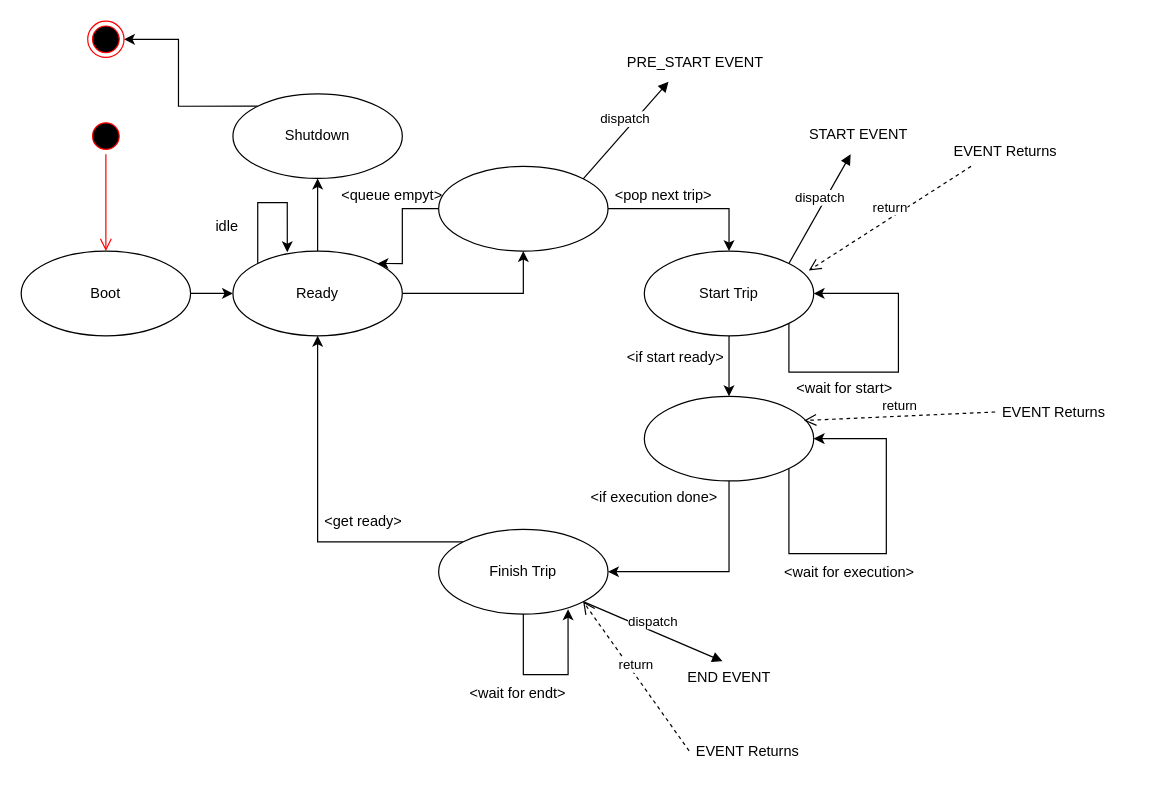
Some shapes in this 1174 by 791 pixel diagram are drawn without their labels. Each missing label, with the centre of its shape:
Check Queue: point 522,208
Execute Trip: point 728,438
